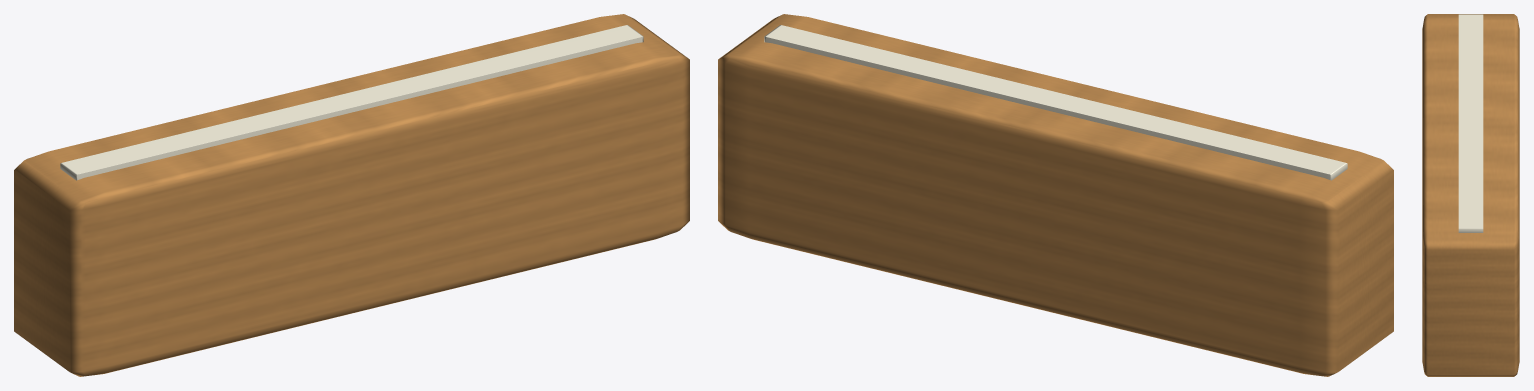
Rendered from border_2m.glb.
3 renders of one model, left to right at view 1: azimuth 30°, elevation 25°; view 2: azimuth 150°, elevation 25°; view 3: azimuth 270°, elevation 25°, orthographic. The views are drawn at different scales.
Parts seen in each view (by area): view 1: Perimeter rail, Rail inlay; view 2: Perimeter rail, Rail inlay; view 3: Perimeter rail, Rail inlay.
Part boxes in pixels (x1,y1,x2,y2): Perimeter rail: [14, 14, 689, 376]; Rail inlay: [60, 25, 643, 180]; Perimeter rail: [718, 14, 1393, 376]; Rail inlay: [764, 25, 1347, 180]; Perimeter rail: [1422, 14, 1519, 376]; Rail inlay: [1458, 14, 1483, 232].
Size of the model in its own units: 2 by 0.575 by 0.35.
2 materials, 1 textured.
